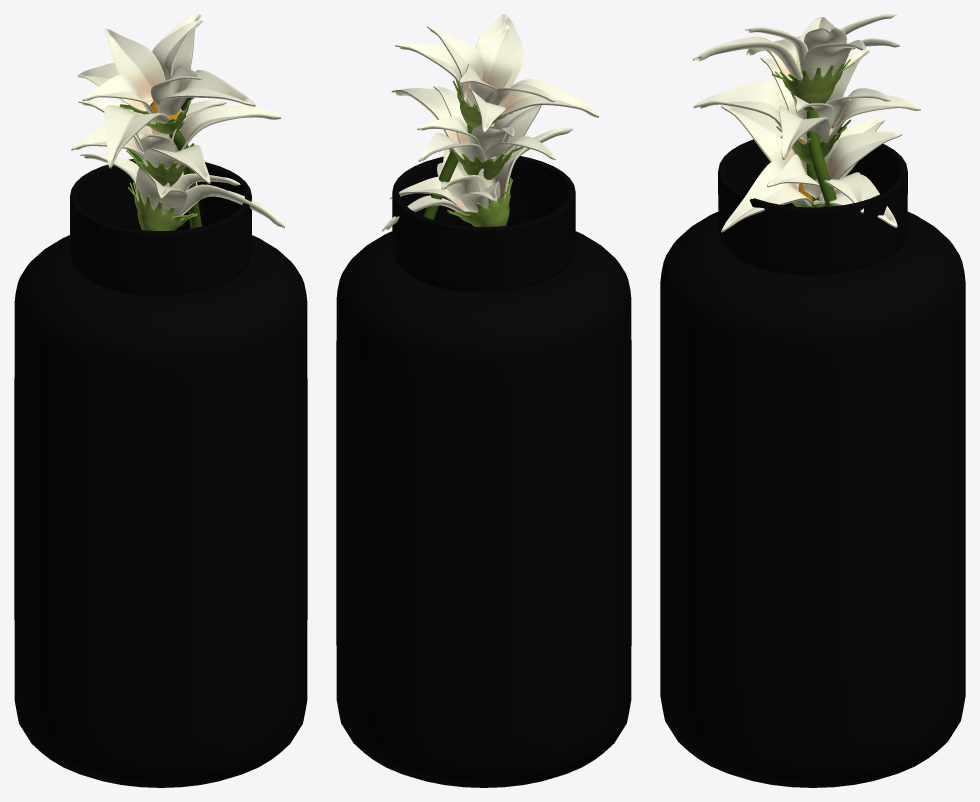
File: vase.obj
3 views of the same model, side by side, from view 1: azimuth 30°, elevation 25°; view 2: azimuth 150°, elevation 25°; view 3: azimuth 270°, elevation 25° (orthographic). The views are drawn at different scales.
Parts seen in each view (by area): view 1: Bottle.001, Flower002, Flower, Flower001; view 2: Bottle.001, Flower002, Flower, Flower001; view 3: Bottle.001, Flower001, Flower002, Flower.
Part boxes in pixels (x1,y1,x2,y2): Bottle.001: [14, 159, 307, 787]; Flower002: [77, 14, 255, 228]; Flower: [71, 100, 280, 186]; Flower001: [80, 146, 284, 230]; Bottle.001: [336, 156, 631, 787]; Flower002: [395, 14, 598, 219]; Flower: [391, 86, 555, 179]; Flower001: [382, 128, 572, 231]; Bottle.001: [660, 139, 965, 787]; Flower001: [721, 105, 901, 232]; Flower002: [692, 14, 899, 206]; Flower: [693, 50, 920, 205].
Size of the model in its own units: 0.2582 by 0.6874 by 0.2581.
Materials: 2 (2 with a texture image).
